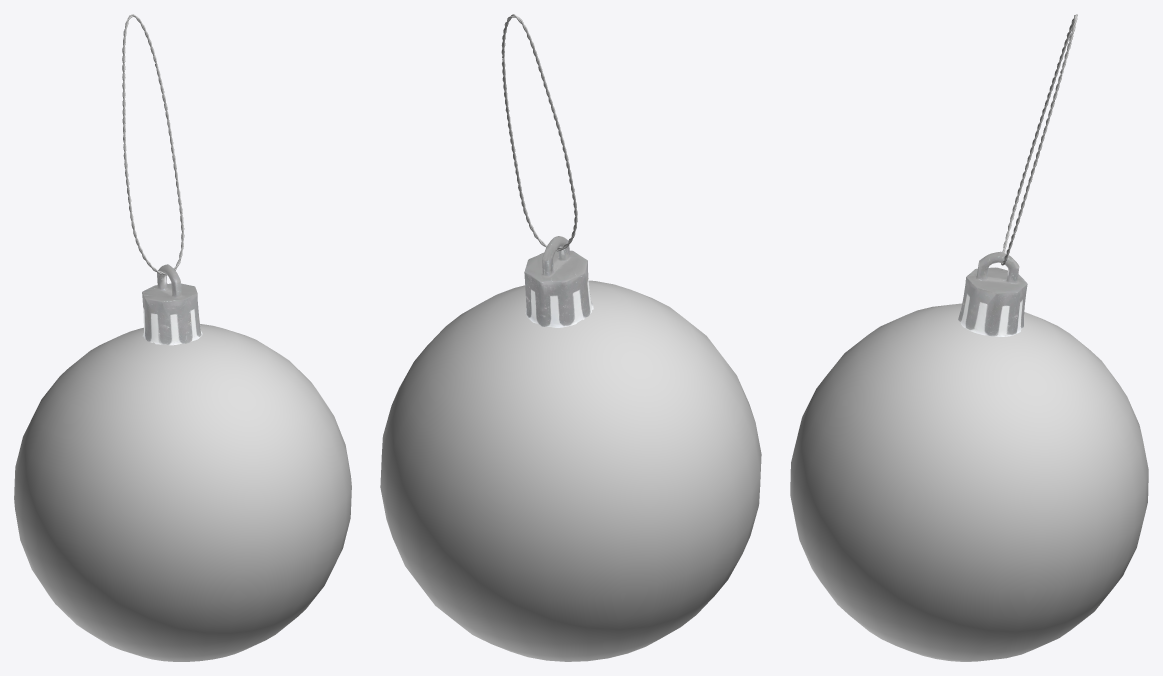
File: Glittering_White_Orb_L.glb
3 views of the same model, side by side, from view 1: azimuth 30°, elevation 25°; view 2: azimuth 150°, elevation 25°; view 3: azimuth 270°, elevation 25° (orthographic). The views are drawn at different scales.
Visible parts, largest first — view 1: Sphere, GN Instance; view 2: Sphere, GN Instance; view 3: Sphere, GN Instance.
Boxes of the visible parts, x1,y1,x2,y2 form: Sphere: [14, 264, 351, 661]; GN Instance: [122, 14, 184, 275]; Sphere: [380, 236, 761, 661]; GN Instance: [501, 14, 577, 251]; Sphere: [790, 251, 1148, 661]; GN Instance: [1001, 14, 1077, 265].
Size of the model in its own units: 0.065 by 0.1257 by 0.0648.
Materials: 3 (1 with a texture image).
